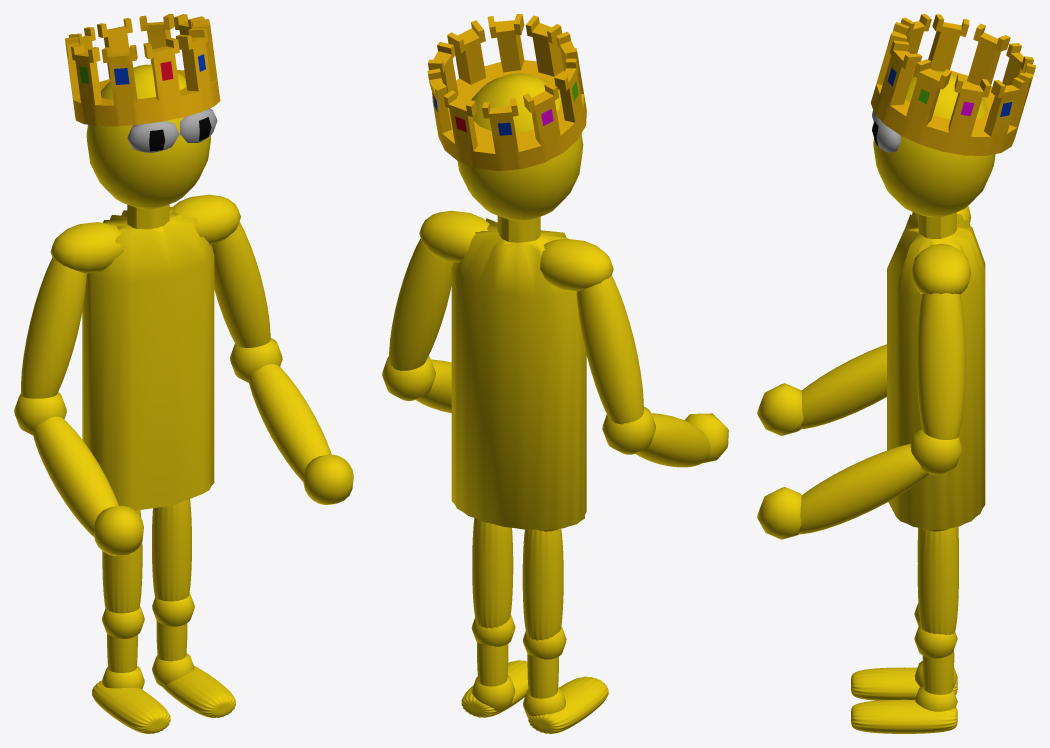
The model's file is king-boss.fbx.
3 renders of one model, left to right at view 1: azimuth 30°, elevation 25°; view 2: azimuth 150°, elevation 25°; view 3: azimuth 270°, elevation 25°, orthographic. The views are drawn at different scales.
Visible parts, largest first — view 1: pCylinder9; view 2: pCylinder9; view 3: pCylinder9.
Part boxes in pixels (x1,y1,x2,y2): pCylinder9: [14, 14, 353, 733]; pCylinder9: [382, 14, 728, 733]; pCylinder9: [757, 14, 1035, 733].
Bounding box in the file's own units: 3.32 × 8.18 × 3.03.
